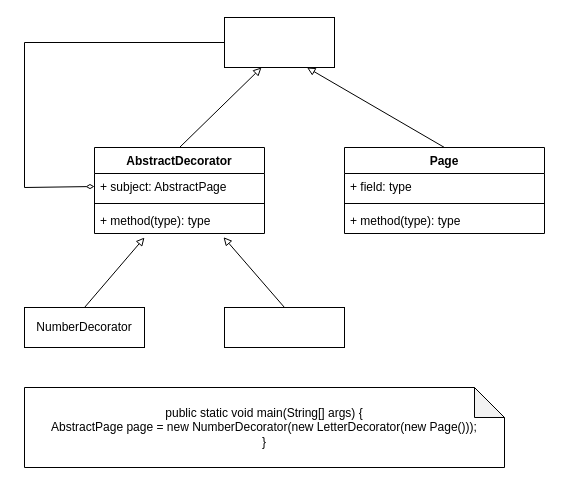
Some shapes in this 562 by 485 pixel diagram are drawn without their labels. Each missing label, with the box of its shape:
LettesDecorator: (224, 306, 344, 348)
«interface» AbstractPage: (224, 16, 334, 68)
